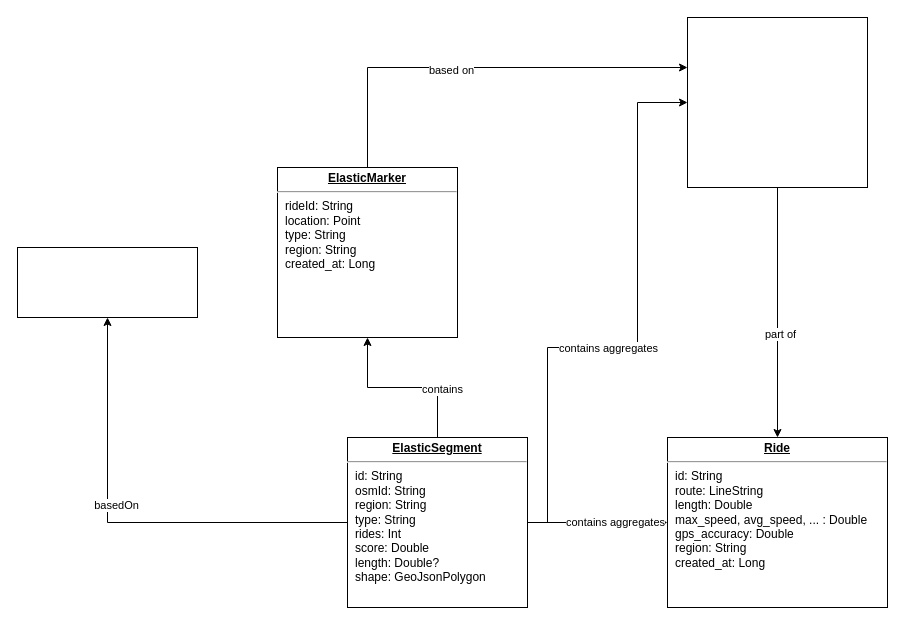
The diagram is 905 pixels wide and 625 high, and some of its shapes have lost their labels. Each missing label, with the centre of its shape:
"Incident id: String ..." belongs at (x=777, y=102).
"OsmData id: String" belongs at (x=107, y=282).
